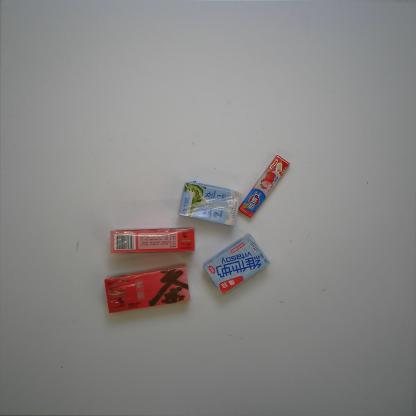Candy: (237, 154, 290, 219)
Instant Drink: (102, 263, 192, 315), (110, 225, 198, 256)
Milk: (202, 232, 270, 296), (178, 180, 242, 226)
